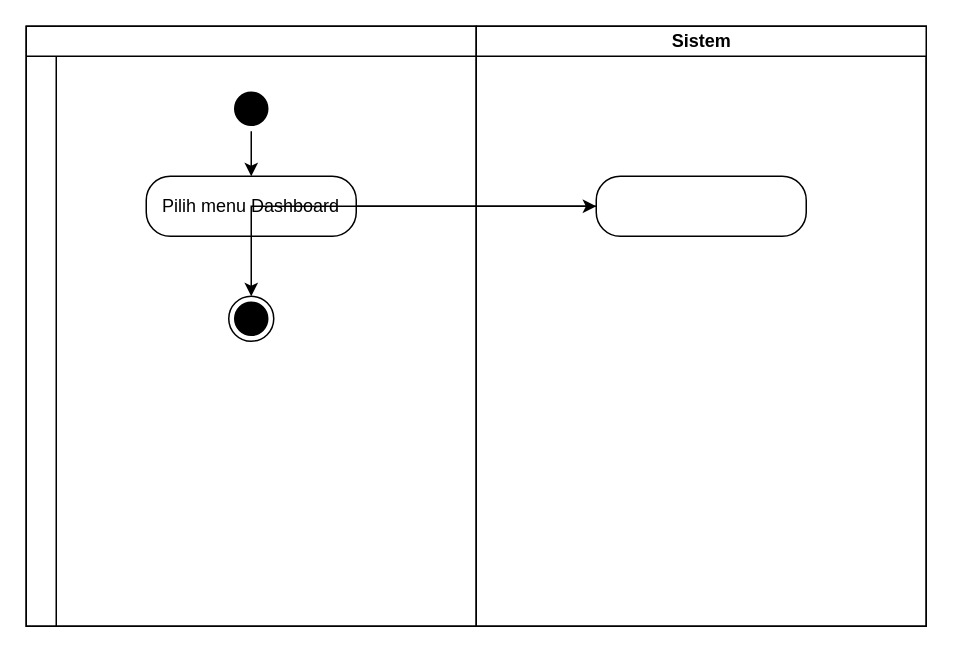
Some shapes in this 953 by 653 pixel diagram are drawn without their labels. The box of each missing label's shape, as (x1, y1, x2, y2) in pixels:
Admin: (25, 25, 476, 626)
Menampilkan Halaman Dashboard: (595, 175, 806, 236)
